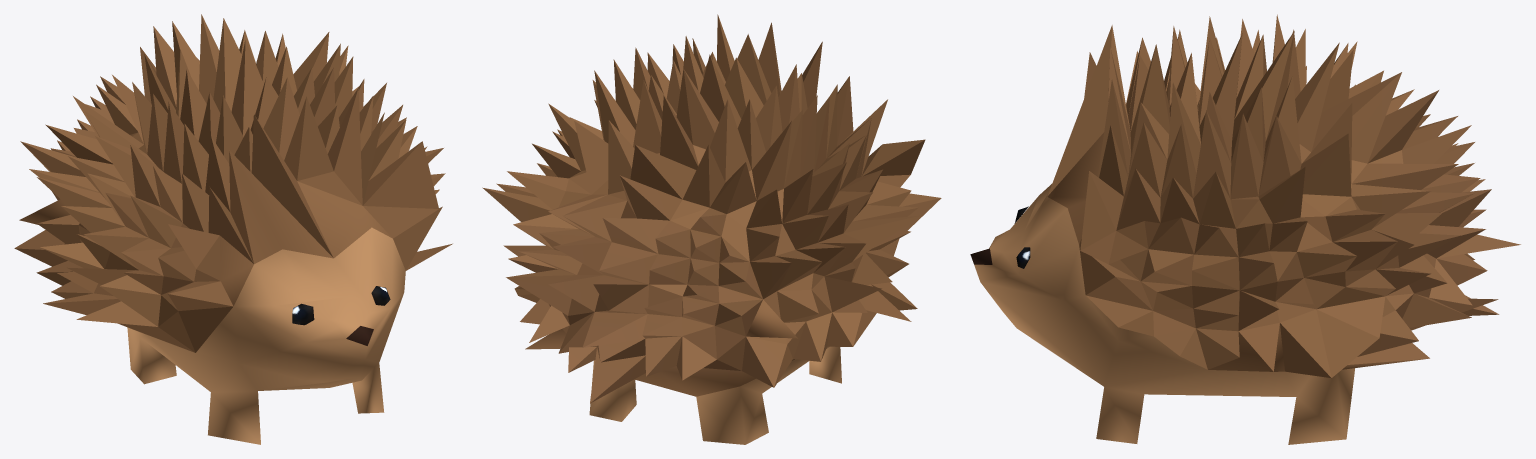
The model's file is HedgeHog.glb.
The picture shows the model from 3 angles, left to right: view 1: azimuth 30°, elevation 25°; view 2: azimuth 150°, elevation 25°; view 3: azimuth 270°, elevation 25°; orthographic projection. The views are drawn at different scales.
Visible parts, largest first — view 1: HedgeHog; view 2: HedgeHog; view 3: HedgeHog.
Part boxes in pixels (<box>): HedgeHog: <box>14,14,452,444</box>; HedgeHog: <box>482,14,941,444</box>; HedgeHog: <box>970,14,1520,444</box>.
Size of what is drawn, in the model's own units: 0.3873 by 0.3377 by 0.453.
Materials: 1 (1 with a texture image).
